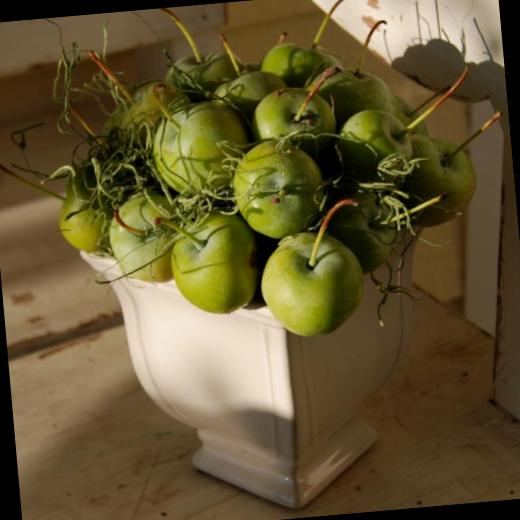Apple: (35, 18, 488, 360)
